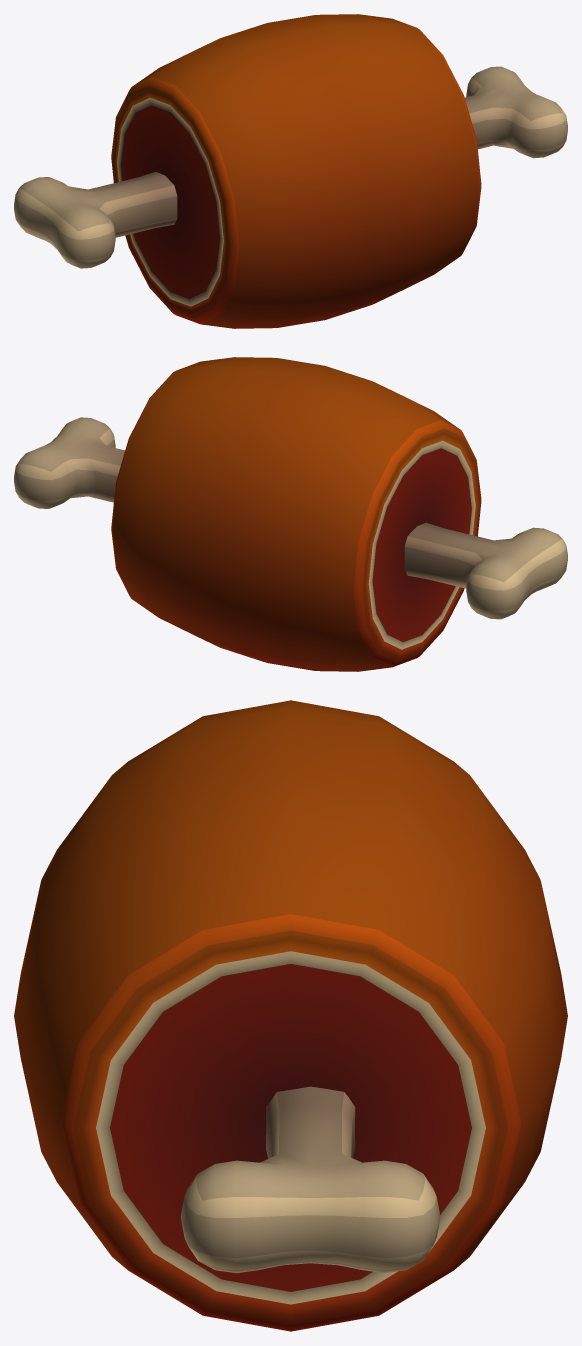
The model's file is meal.fbx.
3 renders of one model, top to bottom at view 1: azimuth 30°, elevation 25°; view 2: azimuth 150°, elevation 25°; view 3: azimuth 270°, elevation 25°, orthographic. The views are drawn at different scales.
Visible parts, largest first — view 1: meal; view 2: meal; view 3: meal.
Boxes of the visible parts, x1=… form: meal: x1=14, y1=14, x2=567, y2=328; meal: x1=14, y1=357, x2=567, y2=671; meal: x1=14, y1=700, x2=567, y2=1331.
Size of the model in its own units: 184 by 96.3 by 96.3.
